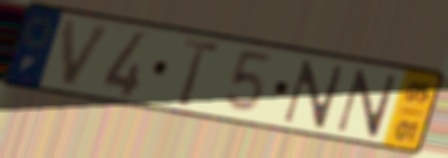4: (102, 28, 147, 99)
5: (222, 48, 276, 117)
N: (279, 58, 348, 131), (333, 67, 402, 140)
T: (176, 36, 224, 110)
V: (60, 17, 117, 91)
